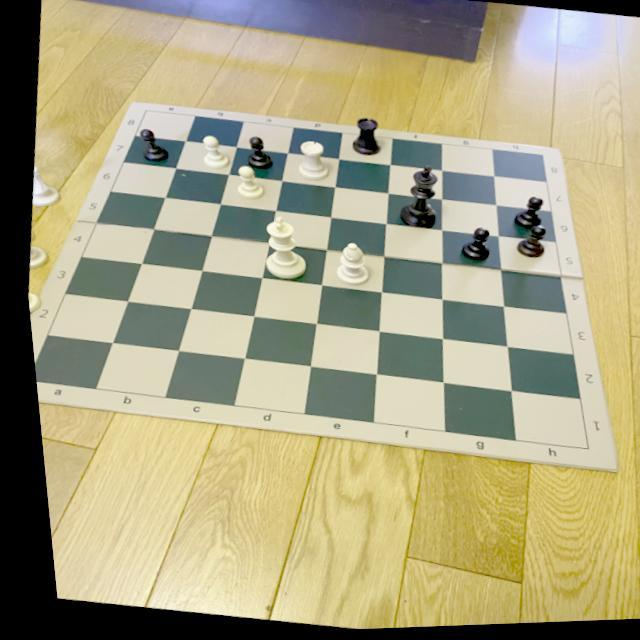chess-table-corners: (569, 445, 590, 461), (28, 374, 36, 388), (138, 109, 150, 116), (534, 156, 542, 161)
